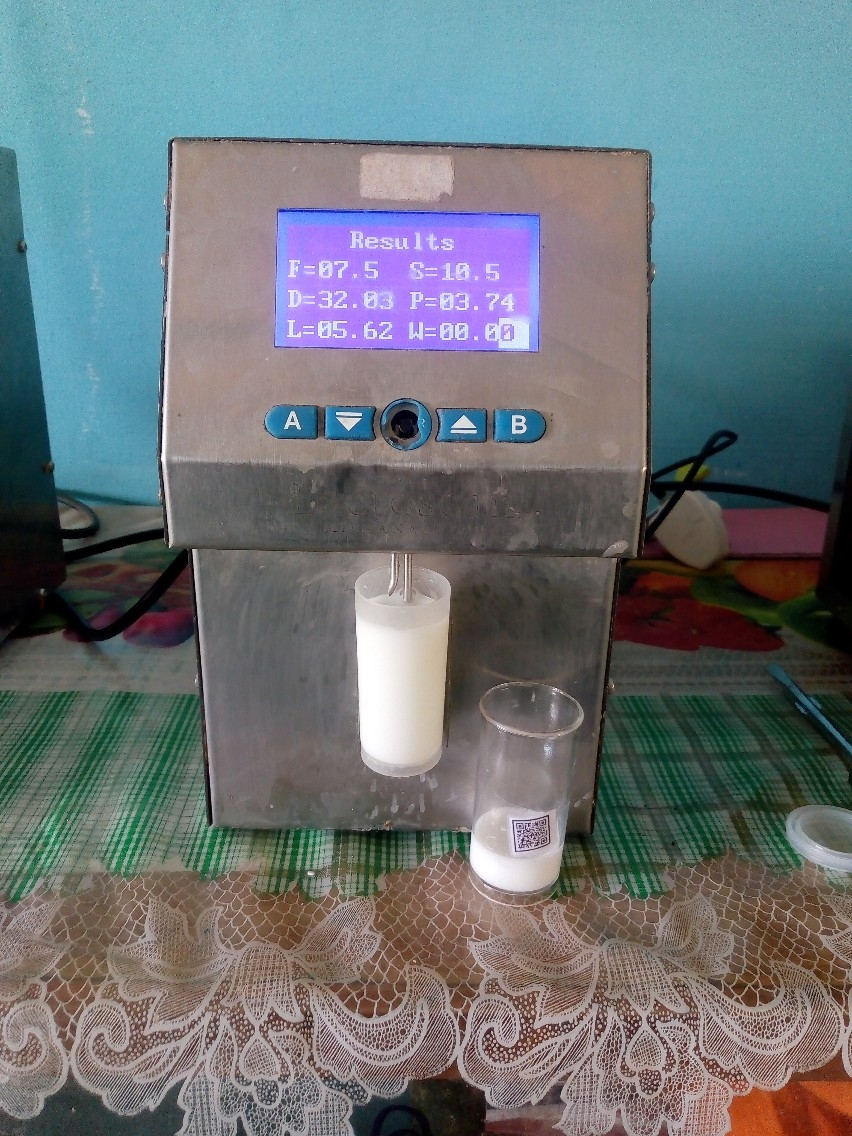lcd: (271, 204, 543, 359)
qr: (507, 814, 557, 854)
